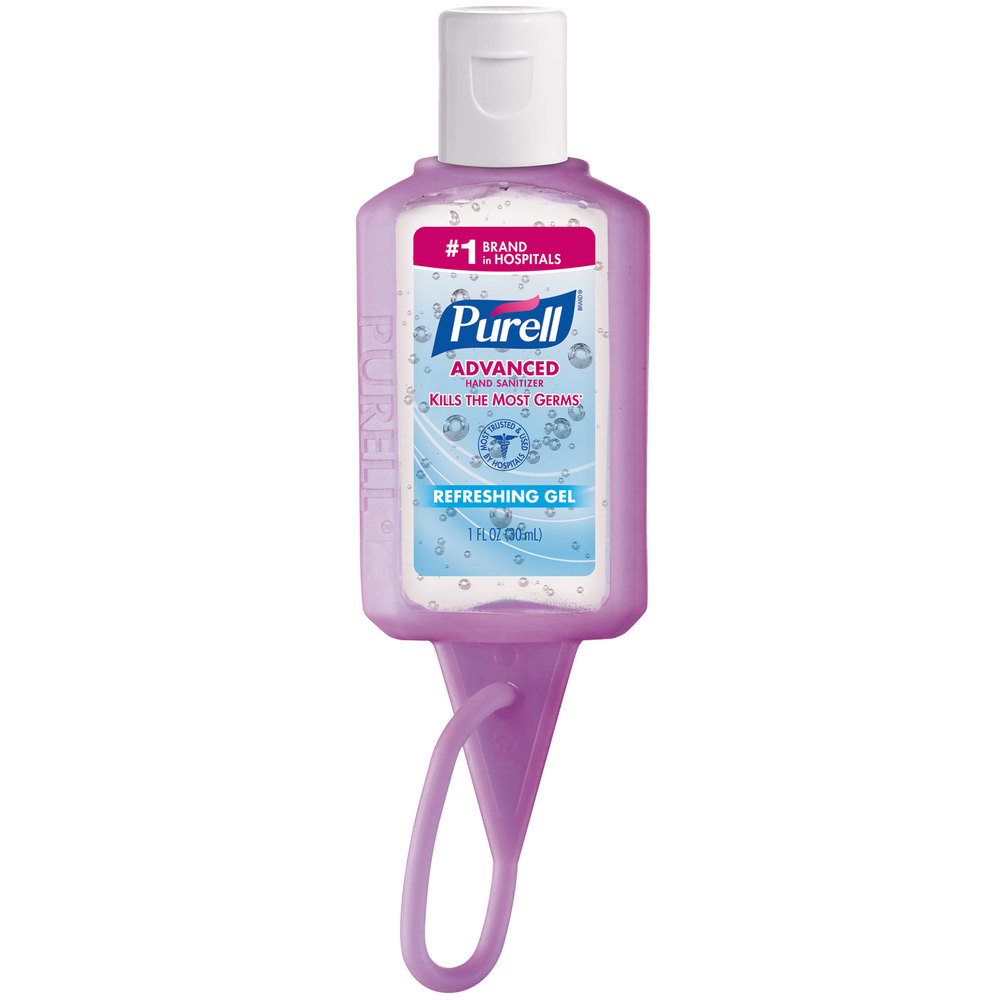Sanitizer: (333, 3, 664, 642)
